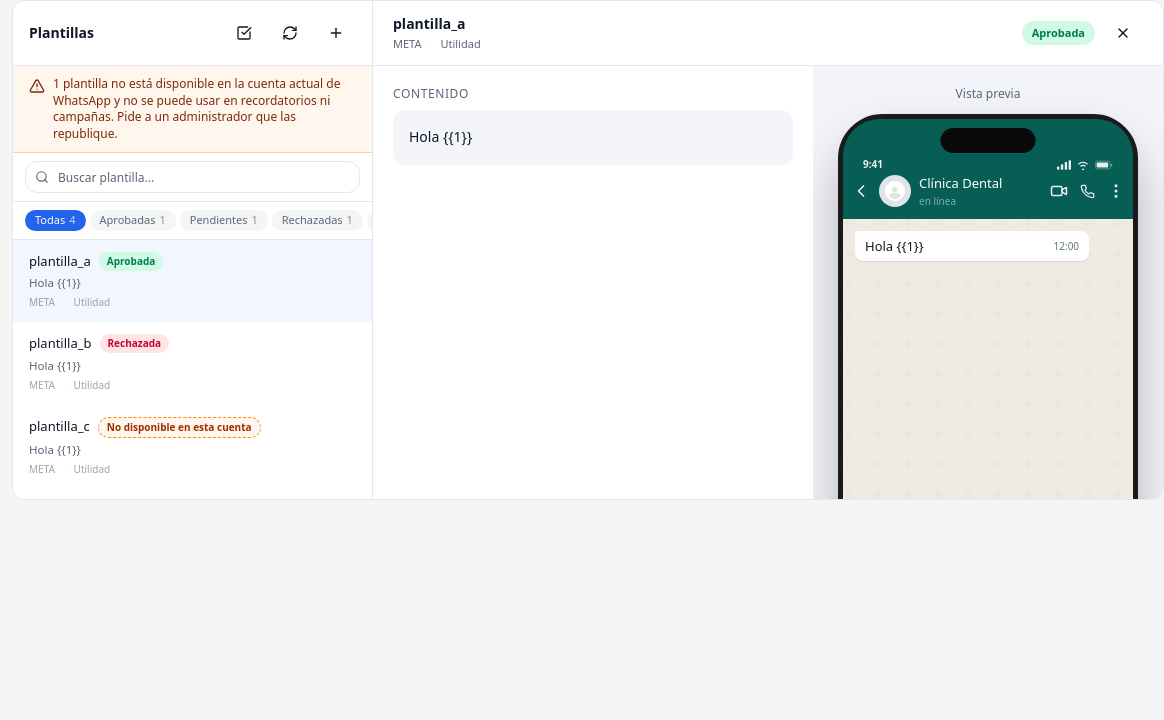
Test case: Eliminar plantillas › «Seleccionar no utilizables» marca rechazadas y no disponibles, sin eliminar nada
Step 1. Click the button named "Seleccionar plantillas" → click(244, 33), box top-left (224, 13), bottom-right (264, 53)
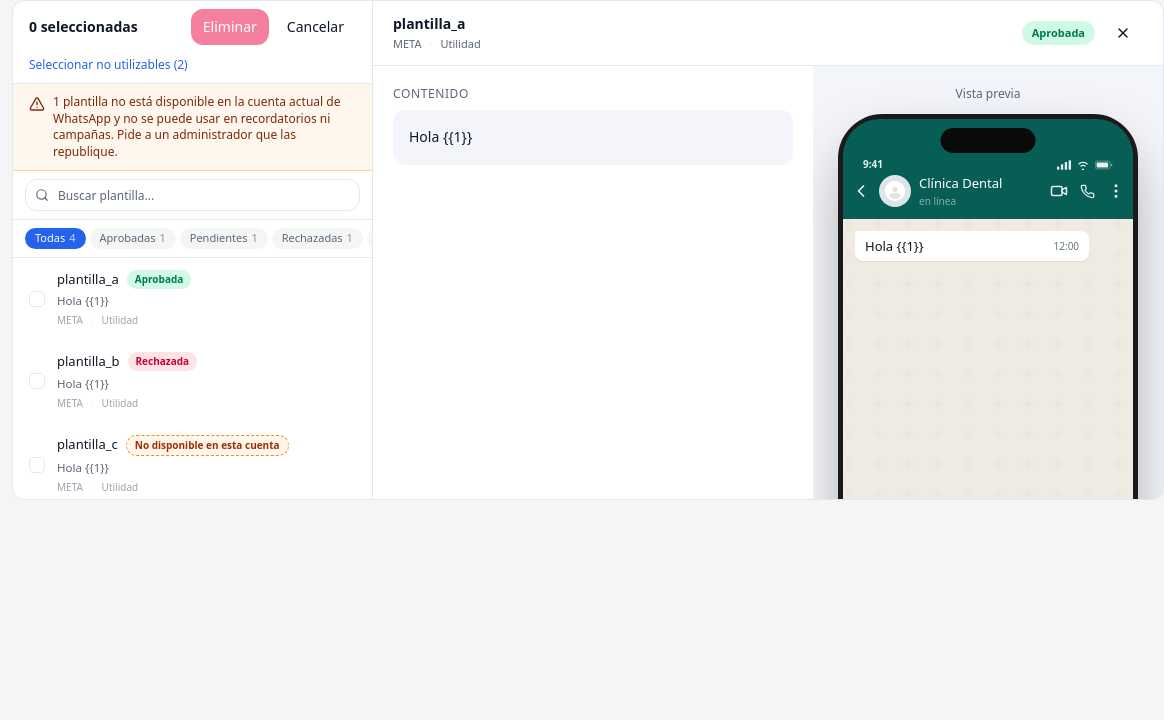
Step 2. Click the button "Seleccionar no utilizables (2)" → click(108, 65), box top-left (29, 55), bottom-right (188, 75)
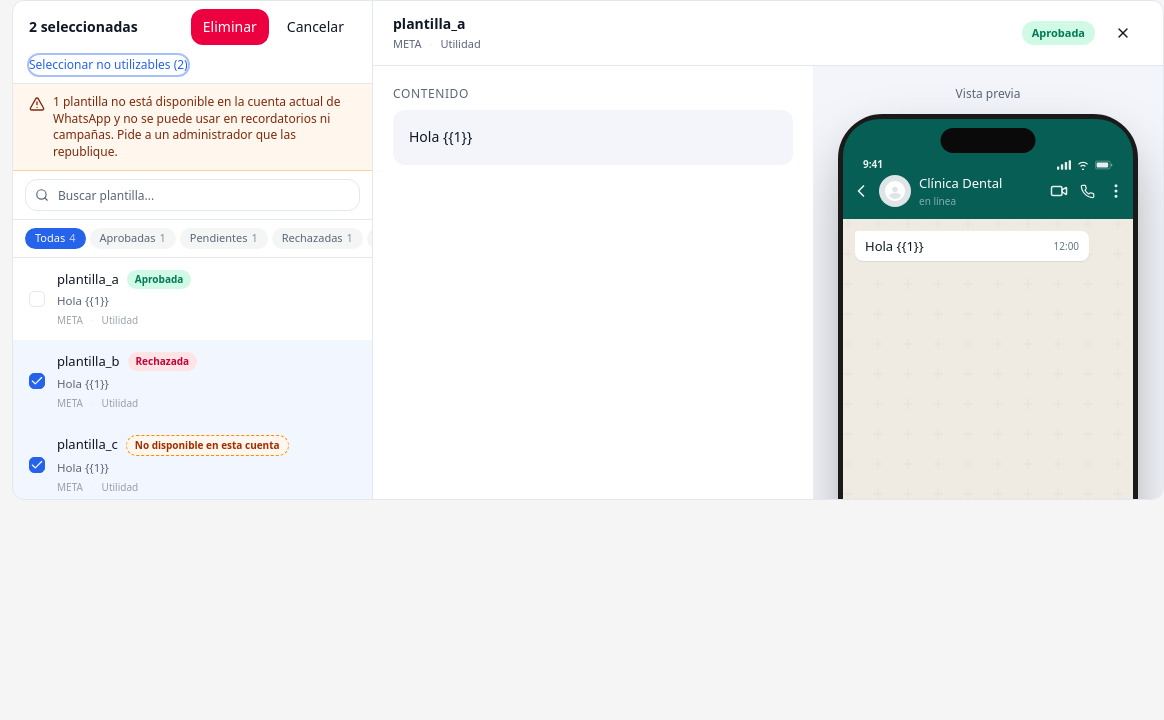
Expected: the text "2 seleccionadas" is shown, top-left (29, 17), bottom-right (138, 37)
